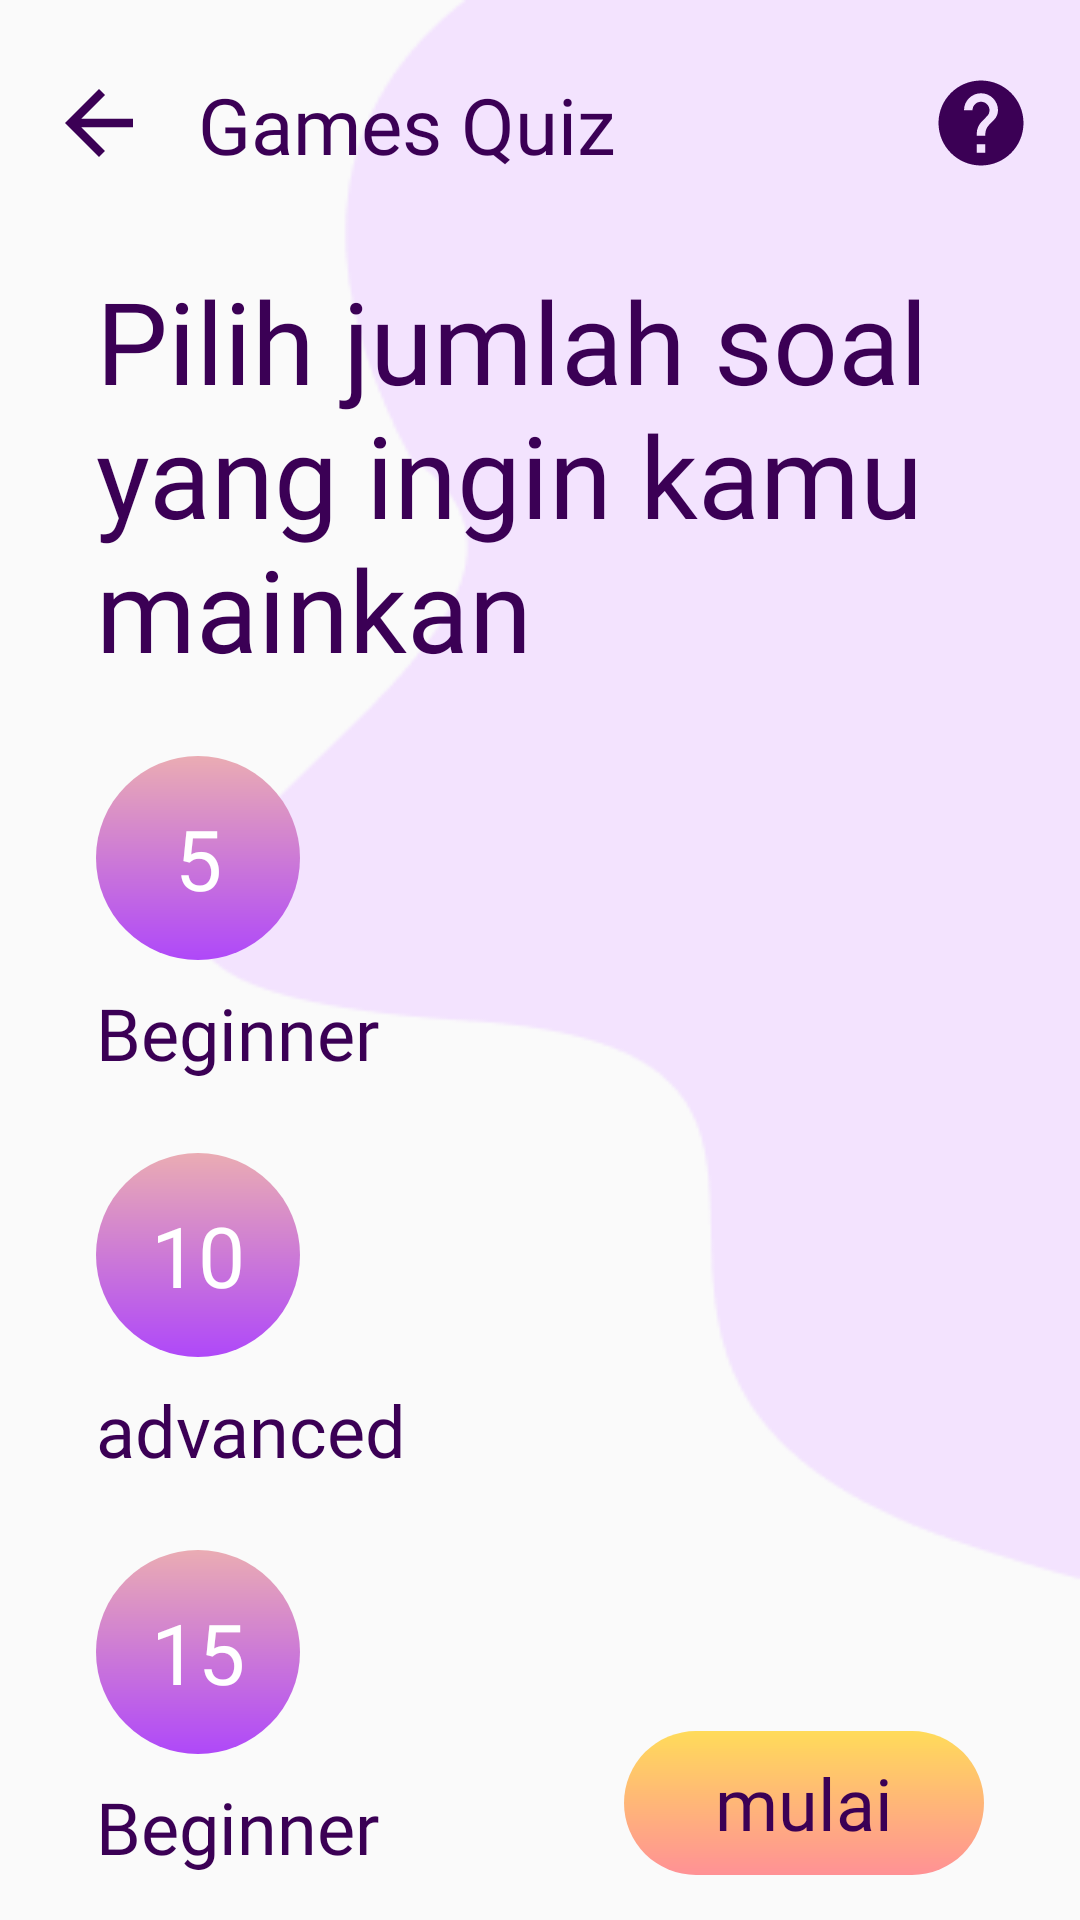

Where to tap for icons on this 1080w x 1920h app screen, as [x,y]:
arrowbackbutton: [99,123]
helpbutton: [981,123]
